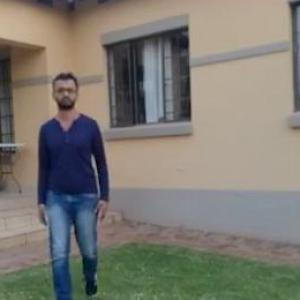follow: (35, 63, 114, 299)
